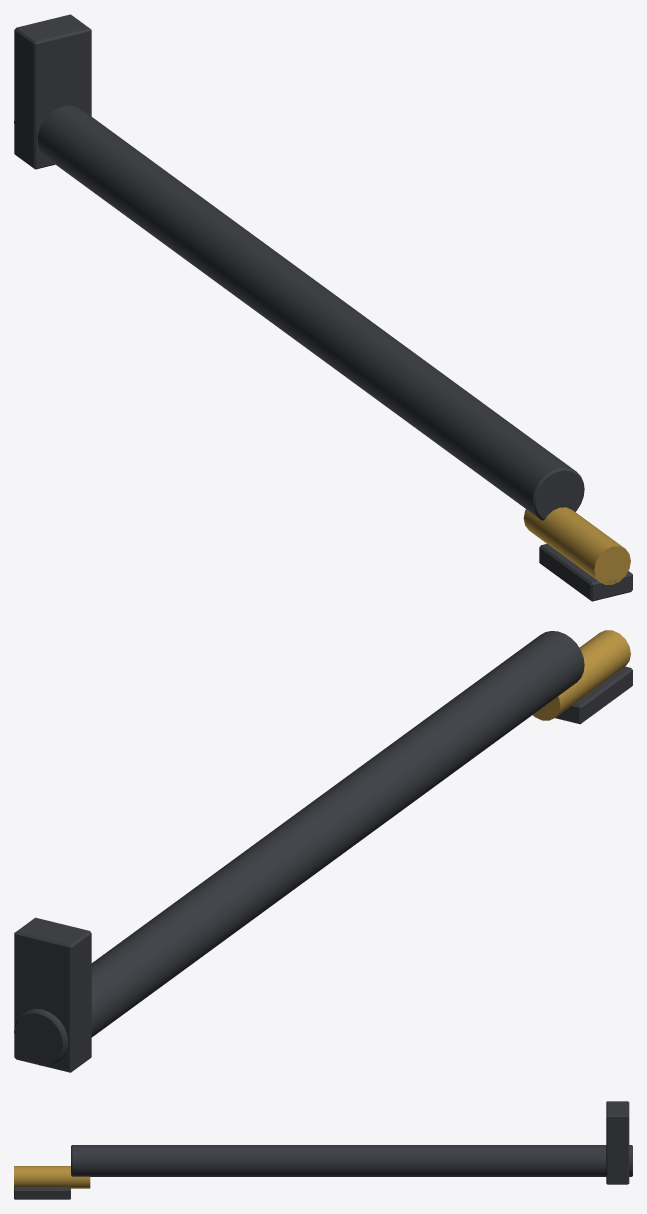
Rendered from mod_shrike_tube.glb.
3 views of the same model, one above another, from view 1: azimuth 30°, elevation 25°; view 2: azimuth 150°, elevation 25°; view 3: azimuth 270°, elevation 25° (orthographic). The views are drawn at different scales.
Visible parts, largest first — view 1: MagTube, MagTubeRound; view 2: MagTube, MagTubeRound; view 3: MagTube, MagTubeRound.
Part boxes in pixels (bbox=[...]): MagTube: bbox=[14, 14, 632, 601]; MagTubeRound: bbox=[523, 507, 630, 584]; MagTube: bbox=[14, 631, 632, 1072]; MagTubeRound: bbox=[533, 630, 630, 720]; MagTube: bbox=[14, 1101, 632, 1199]; MagTubeRound: bbox=[14, 1166, 90, 1188].
Size of the model in its own units: 0.019 by 0.05 by 0.325.
